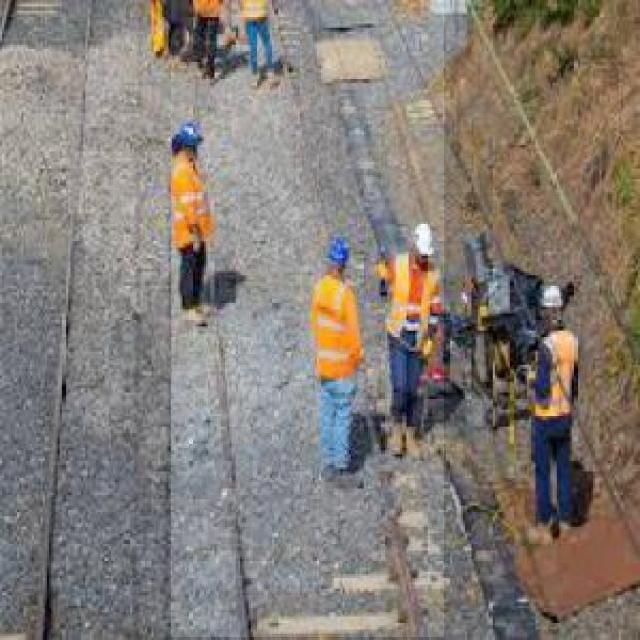rail: (172, 1, 445, 638)
